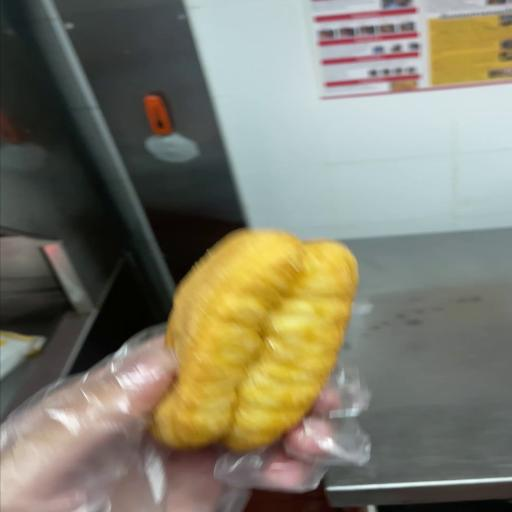brand_golden_good: (152, 230, 357, 451)
